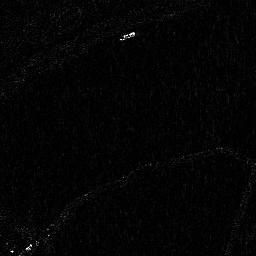ship: (119, 31, 137, 41)
